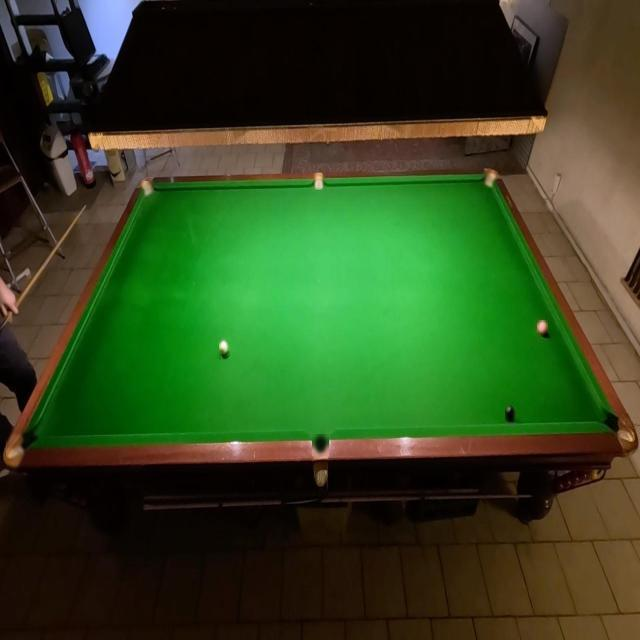Ball: (506, 406, 518, 426), (537, 320, 548, 337), (220, 339, 230, 356)
Pocket: (6, 426, 38, 470), (603, 414, 636, 452), (312, 434, 329, 456), (482, 171, 498, 190), (140, 182, 154, 198), (313, 174, 325, 190)
